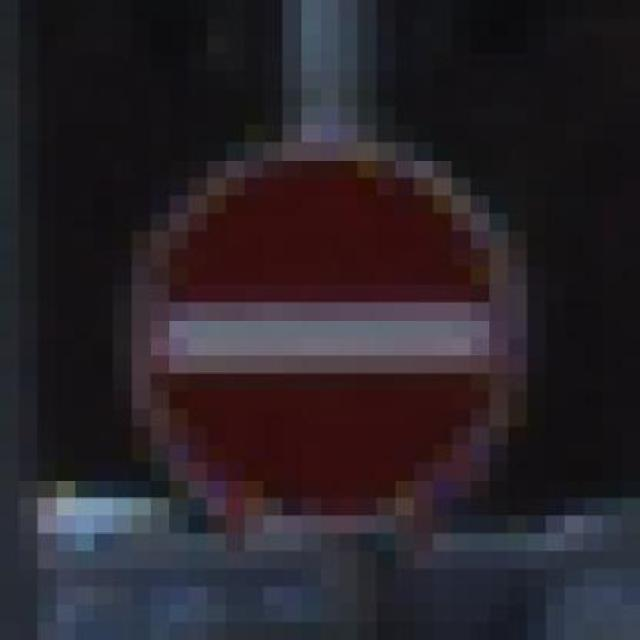No Entry: (93, 143, 564, 552)
